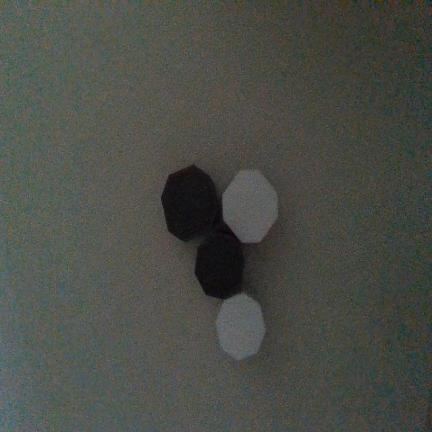Prisma_hexagonal: (161, 165, 219, 241), (222, 169, 278, 242), (194, 230, 244, 299), (216, 293, 265, 359)
